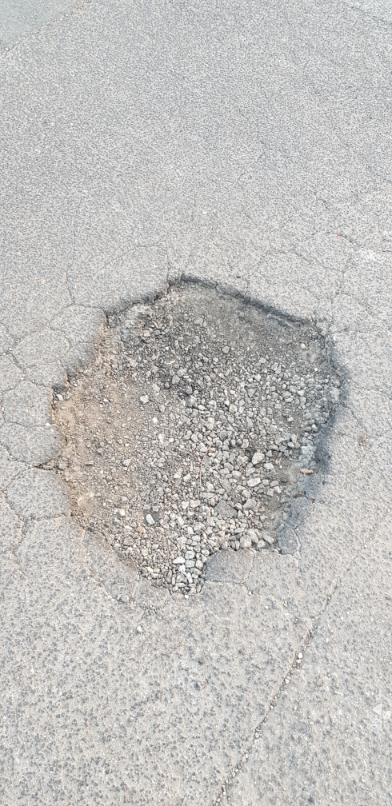pothole: (36, 269, 357, 602)
